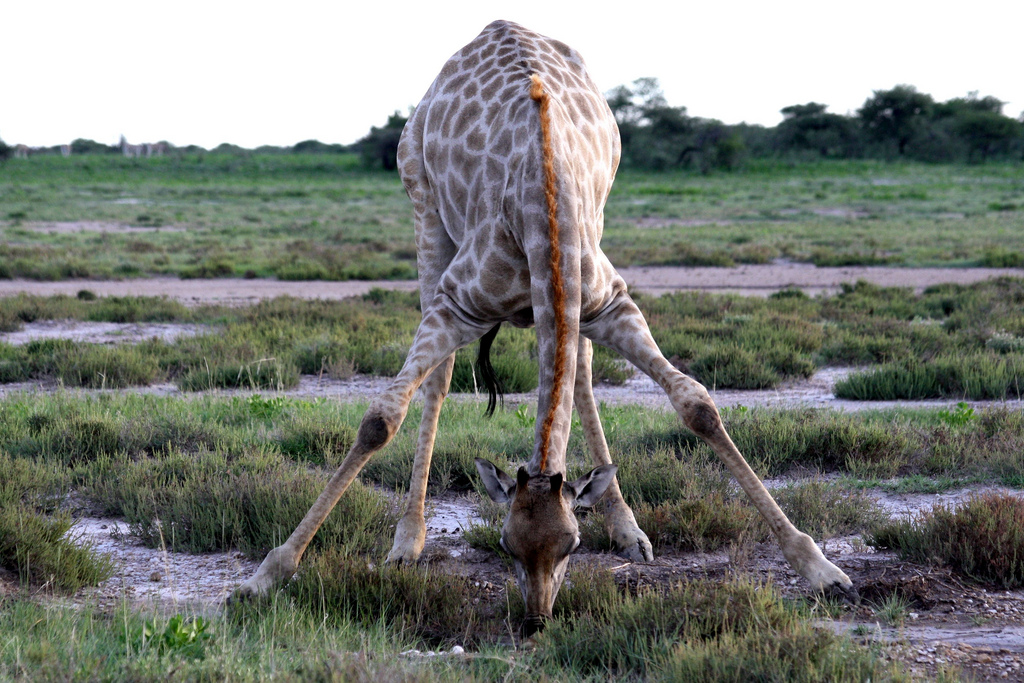giraffe: (225, 9, 896, 664)
